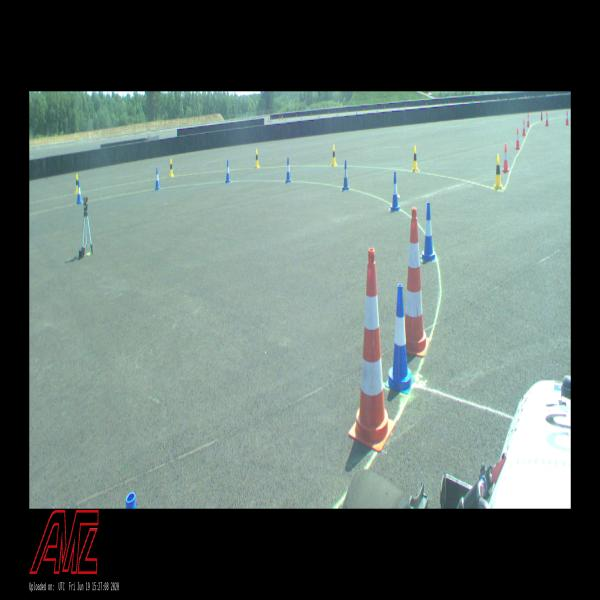blue_cone: (385, 284, 415, 394), (420, 202, 436, 262), (390, 172, 400, 212), (342, 160, 350, 190), (284, 156, 292, 182), (76, 181, 83, 204), (154, 167, 161, 190), (225, 160, 231, 182)
large_orange_cone: (348, 248, 396, 452), (401, 207, 430, 356)
orange_cone: (502, 144, 510, 172), (515, 128, 521, 149), (522, 118, 526, 136), (565, 110, 569, 125), (545, 112, 549, 126), (527, 113, 530, 126)
yellow_cone: (494, 154, 502, 190), (411, 145, 419, 172), (331, 145, 337, 166), (254, 148, 260, 167), (168, 159, 174, 178), (75, 174, 80, 194)
